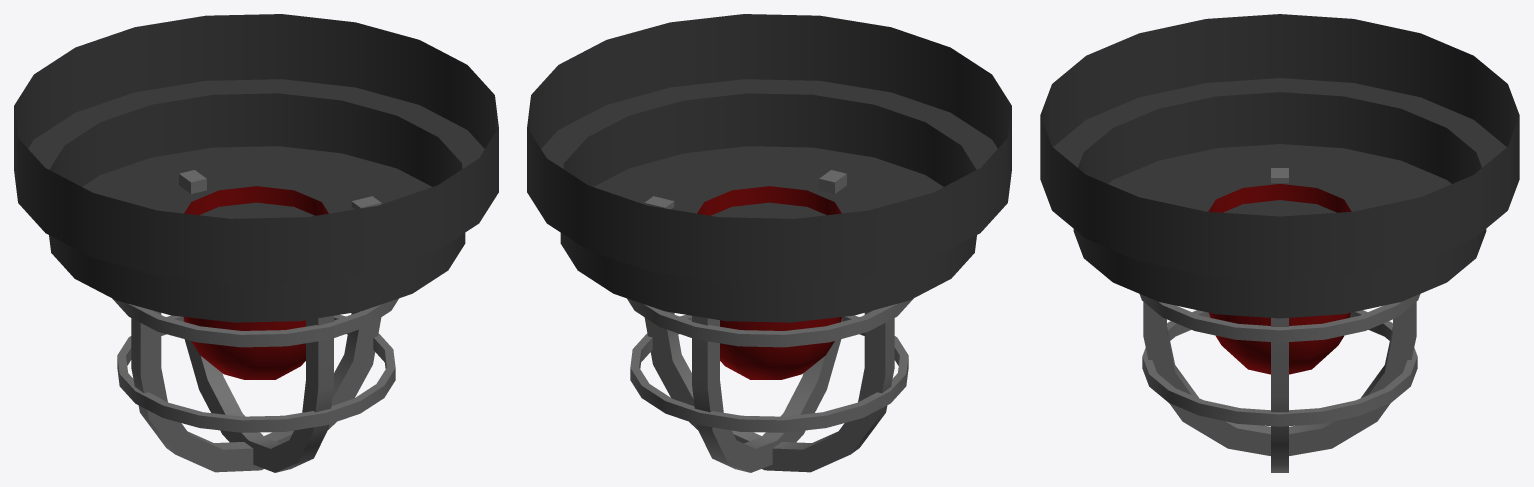
File: SM_Alarm_Lamp_01.fbx
3 renders of one model, left to right at view 1: azimuth 30°, elevation 25°; view 2: azimuth 150°, elevation 25°; view 3: azimuth 270°, elevation 25°, orthographic.
Parts seen in each view (by area): view 1: SM_Alarm_Lamp_01; view 2: SM_Alarm_Lamp_01; view 3: SM_Alarm_Lamp_01.
Boxes of the visible parts, x1,y1,x2,y2 form: SM_Alarm_Lamp_01: (14, 14, 498, 472); SM_Alarm_Lamp_01: (527, 14, 1011, 472); SM_Alarm_Lamp_01: (1040, 14, 1519, 472).
Size of the model in its own units: 127 by 101 by 127.
